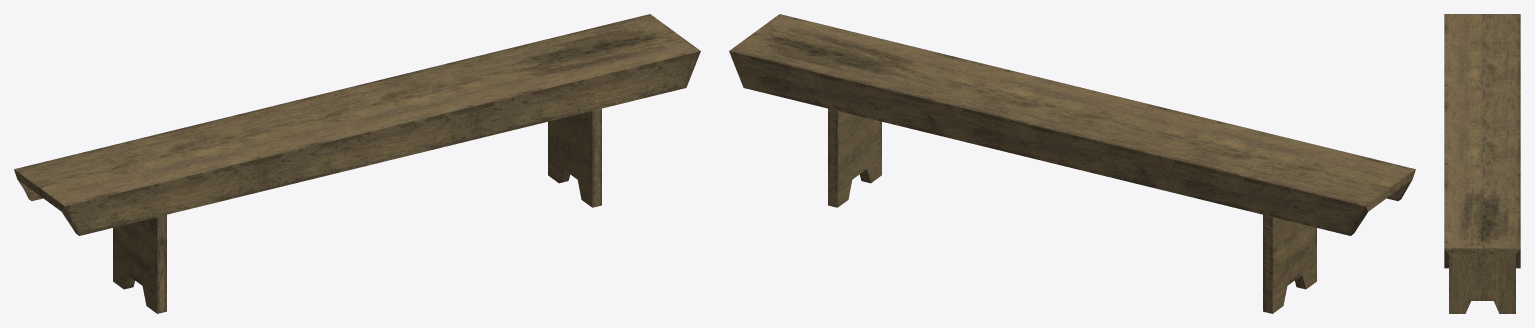
Rendered from bench.glb.
The picture shows the model from 3 angles, left to right: view 1: azimuth 30°, elevation 25°; view 2: azimuth 150°, elevation 25°; view 3: azimuth 270°, elevation 25°; orthographic projection. The views are drawn at different scales.
Visible parts, largest first — view 1: Cube; view 2: Cube; view 3: Cube.
Part boxes in pixels (box(x1,y1,x2,y2)): Cube: box(14, 14, 700, 313); Cube: box(729, 14, 1415, 313); Cube: box(1444, 14, 1520, 313).
Size of the model in its own units: 2 by 0.4005 by 0.276.
Materials: 1 (1 with a texture image).
